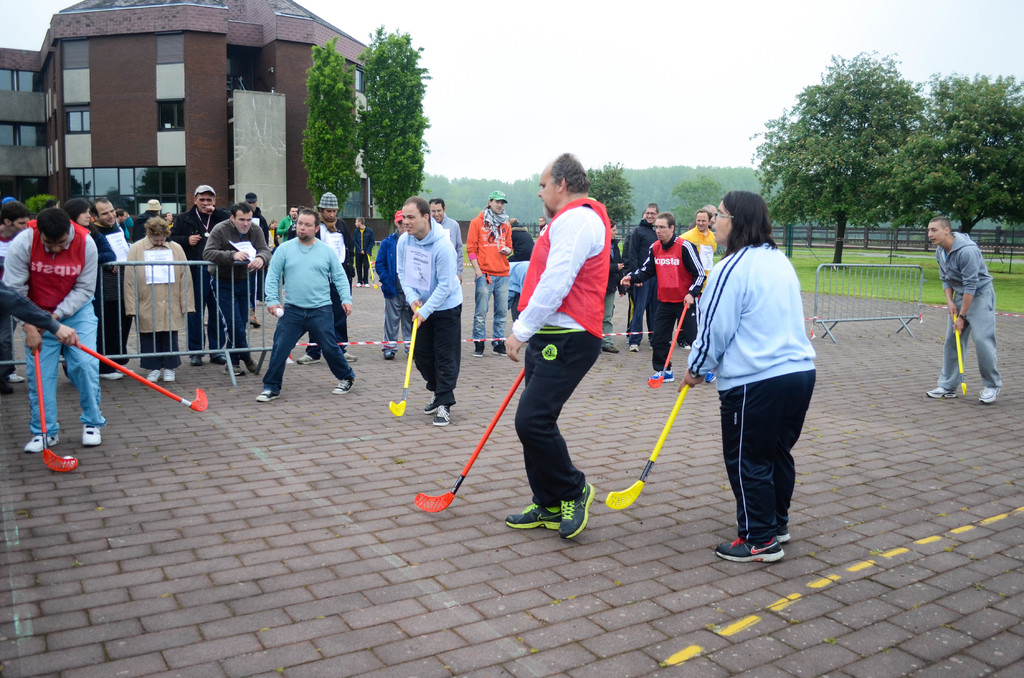Person: (673, 187, 820, 567), (499, 144, 614, 540), (0, 202, 98, 456), (261, 206, 361, 403), (391, 194, 466, 429), (615, 208, 709, 386), (923, 206, 998, 405), (284, 186, 354, 364), (200, 202, 271, 375), (121, 214, 194, 380), (164, 183, 230, 364), (63, 193, 113, 382), (463, 190, 515, 355), (91, 193, 134, 378), (367, 202, 416, 361), (0, 276, 80, 349), (678, 205, 718, 351), (626, 200, 660, 352), (0, 200, 26, 398), (236, 187, 273, 311), (429, 195, 467, 280), (507, 215, 536, 312), (352, 212, 373, 286), (276, 201, 298, 250)
